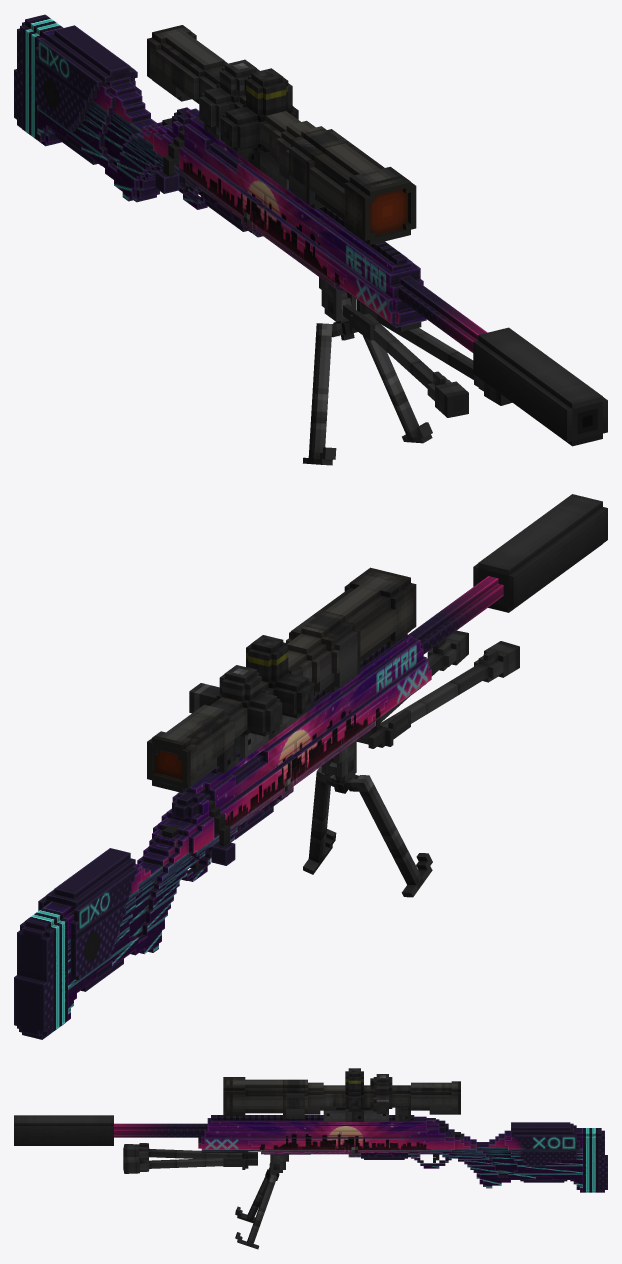
The model's file is RD_SCOUT_RETRO.glb.
3 views of the same model, one above another, from view 1: azimuth 30°, elevation 25°; view 2: azimuth 150°, elevation 25°; view 3: azimuth 270°, elevation 25° (orthographic). The views are drawn at different scales.
Visible parts, largest first — view 1: STEYR_SCOUT, SCOPE_NIGHTFORCE, SCOPE_LEUPOLD, SILENCER_8X8, DIPOD2_LEG1, DIPOD1_LEG1, SCOPE_SCHMIDT_BENDER, DIPOD1_LEG2, DIPOD2_LEG2, STEYR_SCOUT_P2, DIPOD2, DIPOD1_BODY; view 2: STEYR_SCOUT, SCOPE_NIGHTFORCE, SCOPE_LEUPOLD, SILENCER_8X8, SCOPE_SCHMIDT_BENDER, DIPOD2_LEG1, DIPOD1_LEG1, DIPOD1_LEG2, DIPOD2_LEG2, DIPOD2, STEYR_SCOUT_P2, STEYR_SCOUT_P1 (+1 smaller); view 3: STEYR_SCOUT, SCOPE_LEUPOLD, SCOPE_NIGHTFORCE, SILENCER_8X8, SCOPE_SCHMIDT_BENDER, DIPOD2_LEG2, DIPOD2_LEG1, DIPOD1_LEG2, DIPOD2, DIPOD1_LEG1, DIPOD1_BODY.
Boxes of the visible parts, box(x1,y1,x2,y2) form: STEYR_SCOUT: box(14, 14, 487, 352); SCOPE_NIGHTFORCE: box(147, 25, 416, 244); SCOPE_LEUPOLD: box(147, 25, 404, 240); SILENCER_8X8: box(473, 327, 607, 446); DIPOD2_LEG1: box(363, 313, 468, 417); DIPOD1_LEG1: box(303, 323, 336, 465); SCOPE_SCHMIDT_BENDER: box(147, 45, 353, 209); DIPOD1_LEG2: box(363, 335, 432, 443); DIPOD2_LEG2: box(377, 315, 512, 405); STEYR_SCOUT_P2: box(155, 130, 184, 193); DIPOD2: box(343, 299, 421, 340); DIPOD1_BODY: box(319, 277, 356, 321); STEYR_SCOUT: box(14, 576, 503, 1039); SCOPE_NIGHTFORCE: box(147, 567, 416, 787); SCOPE_LEUPOLD: box(152, 572, 409, 781); SILENCER_8X8: box(473, 494, 607, 612); SCOPE_SCHMIDT_BENDER: box(147, 614, 360, 792); DIPOD2_LEG1: box(380, 641, 519, 728); DIPOD1_LEG1: box(346, 775, 432, 897); DIPOD1_LEG2: box(303, 766, 336, 874); DIPOD2_LEG2: box(380, 630, 468, 722); DIPOD2: box(356, 688, 420, 748); STEYR_SCOUT_P2: box(209, 800, 235, 865); STEYR_SCOUT_P1: box(172, 755, 262, 818); STEYR_SCOUT: box(114, 1115, 607, 1192); SCOPE_LEUPOLD: box(229, 1068, 460, 1121); SCOPE_NIGHTFORCE: box(223, 1074, 460, 1121); SILENCER_8X8: box(14, 1115, 113, 1145); SCOPE_SCHMIDT_BENDER: box(283, 1078, 460, 1121); DIPOD2_LEG2: box(123, 1156, 223, 1173); DIPOD2_LEG1: box(123, 1143, 242, 1158); DIPOD1_LEG2: box(235, 1174, 276, 1249); DIPOD2: box(201, 1151, 257, 1169); DIPOD1_LEG1: box(235, 1167, 270, 1222); DIPOD1_BODY: box(270, 1154, 288, 1172).
Bounding box in the file's own units: 0.2136 × 0.5748 × 1.87.
Materials: 7 (7 with a texture image).
